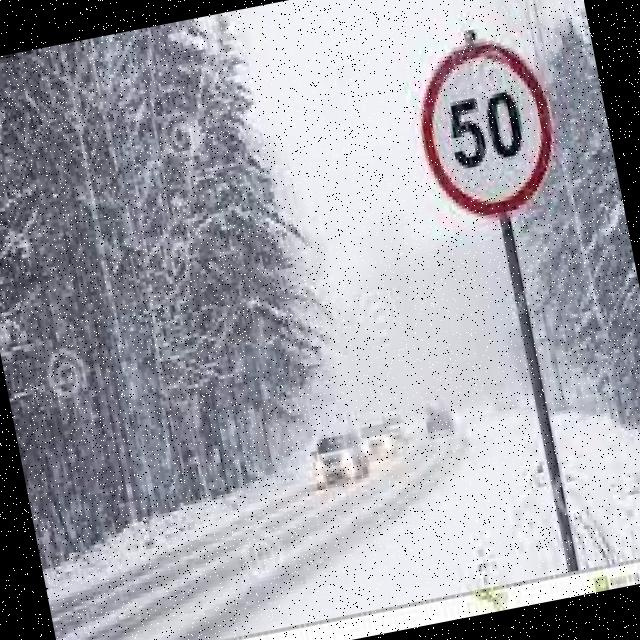speed_limit_50: (407, 26, 576, 232)
